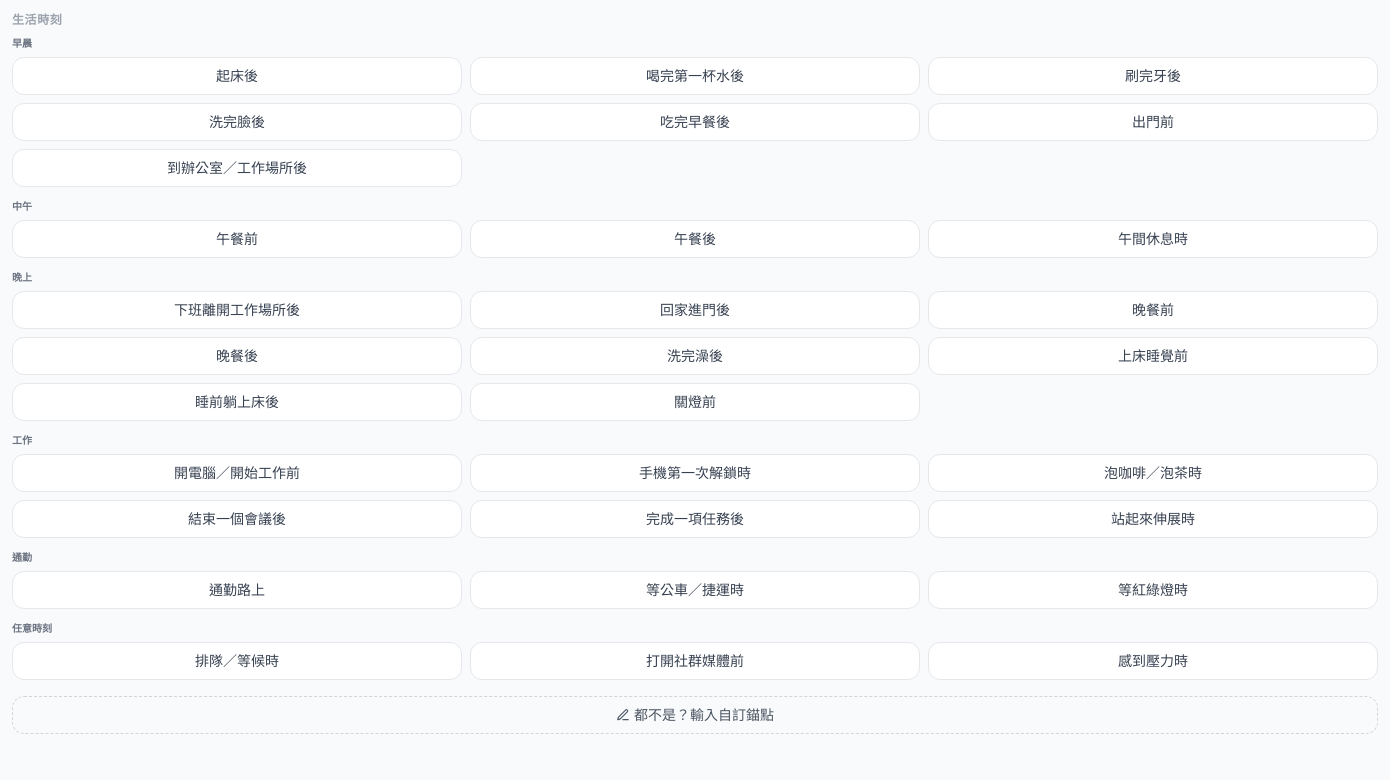
Test case: AnchorPicker — custom input › reveals text input when 自訂... is clicked
The image size is (1390, 780).
Click the button "都不是？輸入自訂錨點" at (695, 715), box [12,696,1378,734]
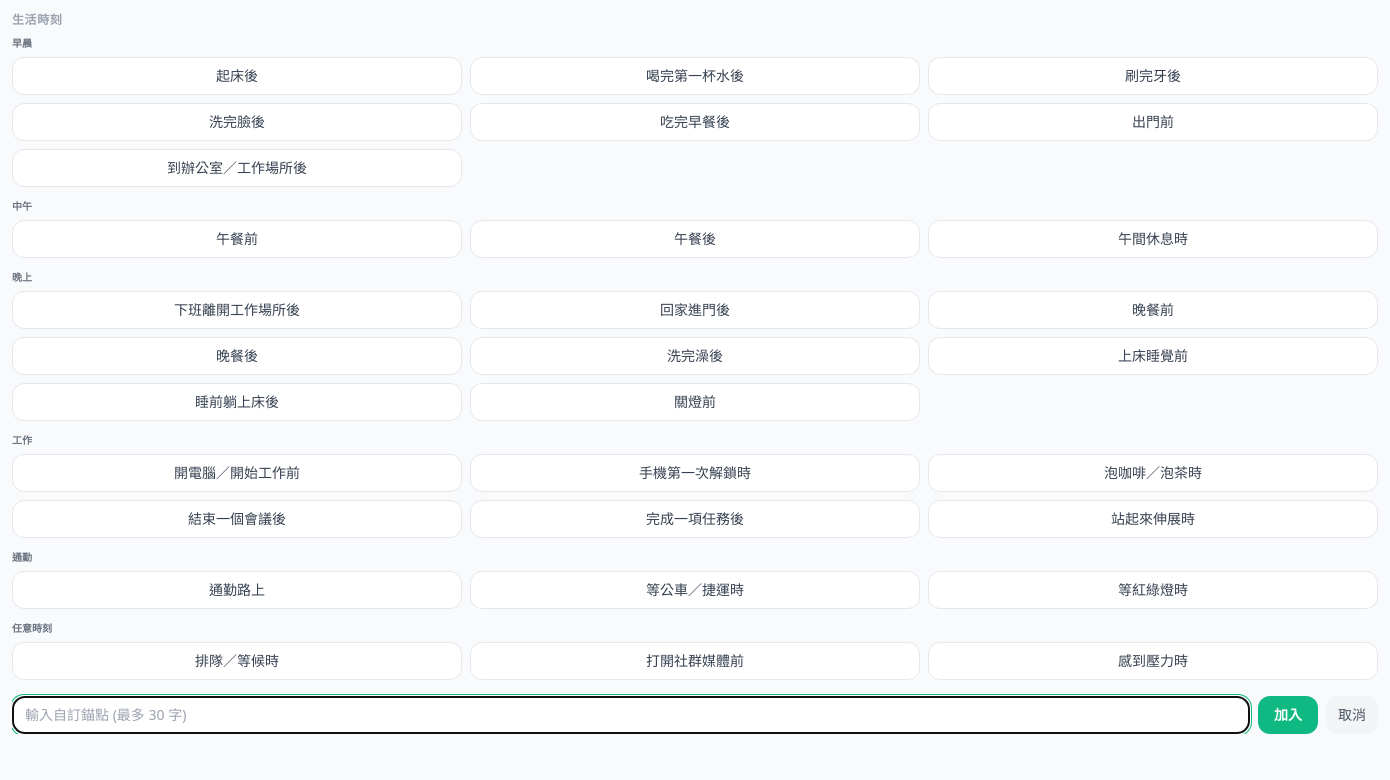
Check: the field with placeholder "輸入自訂錨點 (最多 30 字)" is shown, box [12,696,1250,734]
